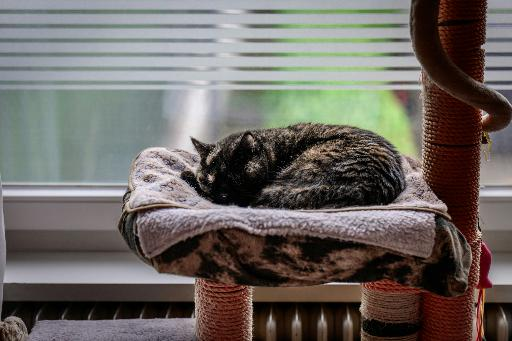cat_sleeping: (180, 123, 405, 209)
